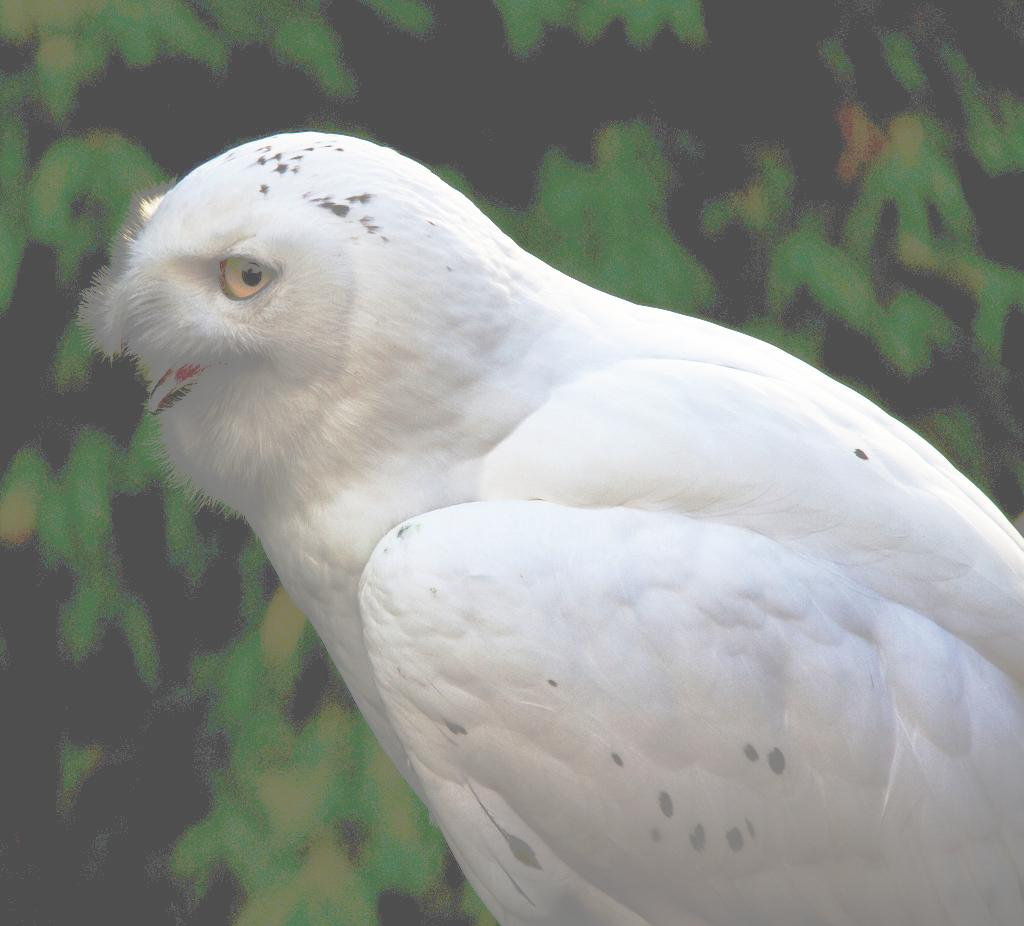Owl: (86, 130, 1024, 926)
